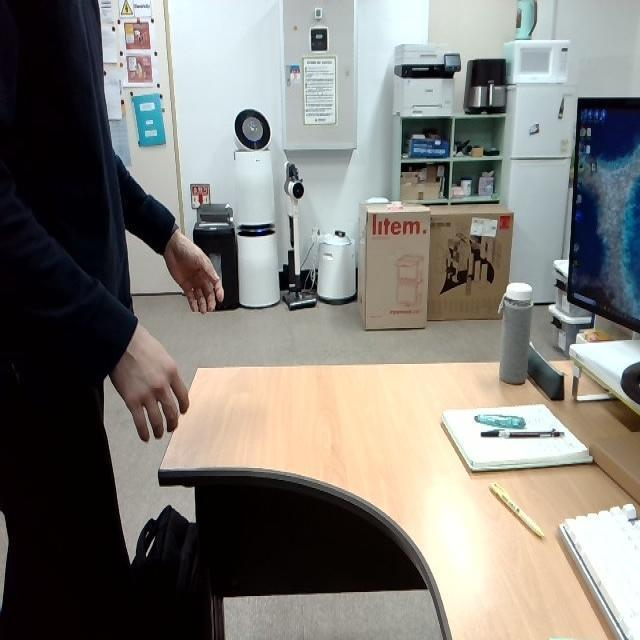bare_hand: (99, 313, 194, 448), (150, 210, 235, 319)
